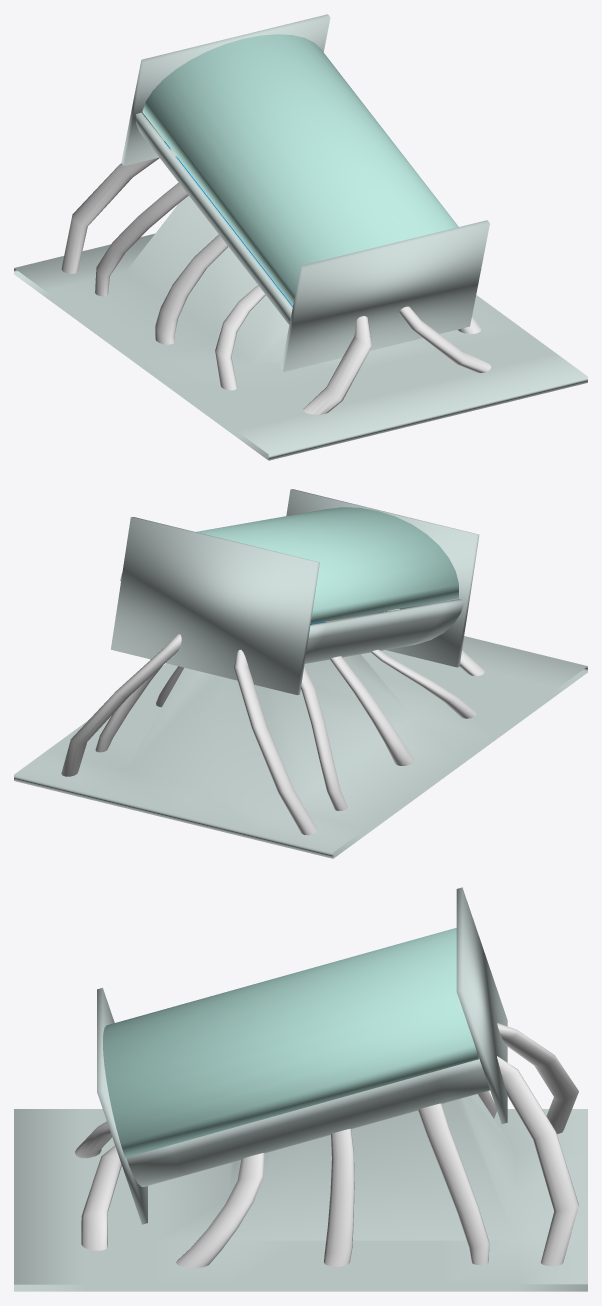
File: cryopod.fbx
The picture shows the model from 3 angles, top to bottom: view 1: azimuth 30°, elevation 25°; view 2: azimuth 150°, elevation 25°; view 3: azimuth 270°, elevation 25°; orthographic projection. The views are drawn at different scales.
Parts seen in each view (by area): view 1: cryopod.004, cryopod.1, Obj_TT_tube.019, Obj_TT_tube.017, Obj_TT_tube.010, Obj_TT_tube.022, Obj_TT_tube.012, Obj_TT_tube.021; view 2: cryopod.004, cryopod.1, Obj_TT_tube.019, Obj_TT_tube.018, Obj_TT_tube.010, Obj_TT_tube.017, Obj_TT_tube.012, Obj_TT_tube.009; view 3: cryopod.004, cryopod.1, Obj_TT_tube.018, Obj_TT_tube.009, Obj_TT_tube.014, Obj_TT_tube.013, Obj_TT_tube.019, Obj_TT_tube.021, Obj_TT_tube.022.
Part boxes in pixels (box(x1,y1,x2,y2)): cryopod.004: box(14, 14, 587, 460); cryopod.1: box(142, 34, 458, 305); Obj_TT_tube.019: box(61, 149, 176, 273); Obj_TT_tube.017: box(155, 234, 228, 344); Obj_TT_tube.010: box(95, 182, 188, 296); Obj_TT_tube.022: box(303, 316, 372, 414); Obj_TT_tube.012: box(215, 285, 265, 390); Obj_TT_tube.021: box(399, 306, 491, 372); cryopod.004: box(14, 489, 587, 858); cryopod.1: box(120, 507, 458, 623); Obj_TT_tube.019: box(234, 650, 317, 835); Obj_TT_tube.018: box(61, 634, 181, 776); Obj_TT_tube.010: box(301, 667, 347, 810); Obj_TT_tube.017: box(330, 656, 414, 765); Obj_TT_tube.012: box(370, 649, 476, 718); Obj_TT_tube.009: box(95, 659, 162, 752); cryopod.004: box(14, 887, 587, 1291); cryopod.1: box(103, 928, 478, 1157); Obj_TT_tube.018: box(497, 1056, 578, 1266); Obj_TT_tube.009: box(418, 1103, 489, 1265); Obj_TT_tube.014: box(324, 1128, 354, 1266); Obj_TT_tube.013: box(176, 1153, 264, 1268); Obj_TT_tube.019: box(497, 1023, 578, 1133); Obj_TT_tube.021: box(81, 1146, 121, 1250); Obj_TT_tube.022: box(75, 1121, 111, 1158).
Bounding box in the file's own units: 283 × 212 × 392.
